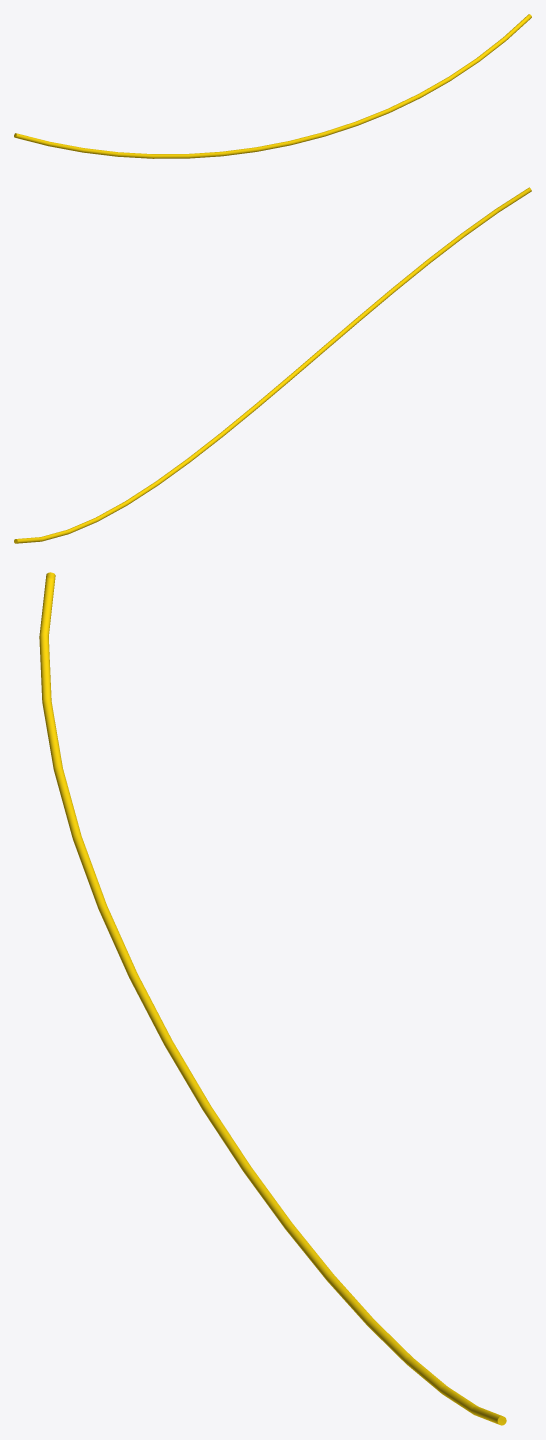
File: Event_421115418_track_48.fbx
The picture shows the model from 3 angles, top to bottom: view 1: azimuth 30°, elevation 25°; view 2: azimuth 210°, elevation 25°; view 3: azimuth 270°, elevation 25°; orthographic projection. The views are drawn at different scales.
Parts seen in each view (by area): view 1: Model; view 2: Model; view 3: Model.
Part boxes in pixels (left/top/right/bottom): Model: left=14, top=14, right=531, bottom=158; Model: left=14, top=187, right=531, bottom=543; Model: left=39, top=572, right=506, bottom=1425.
Bounding box in the file's own units: 6.16 × 1.32 × 1.98.
